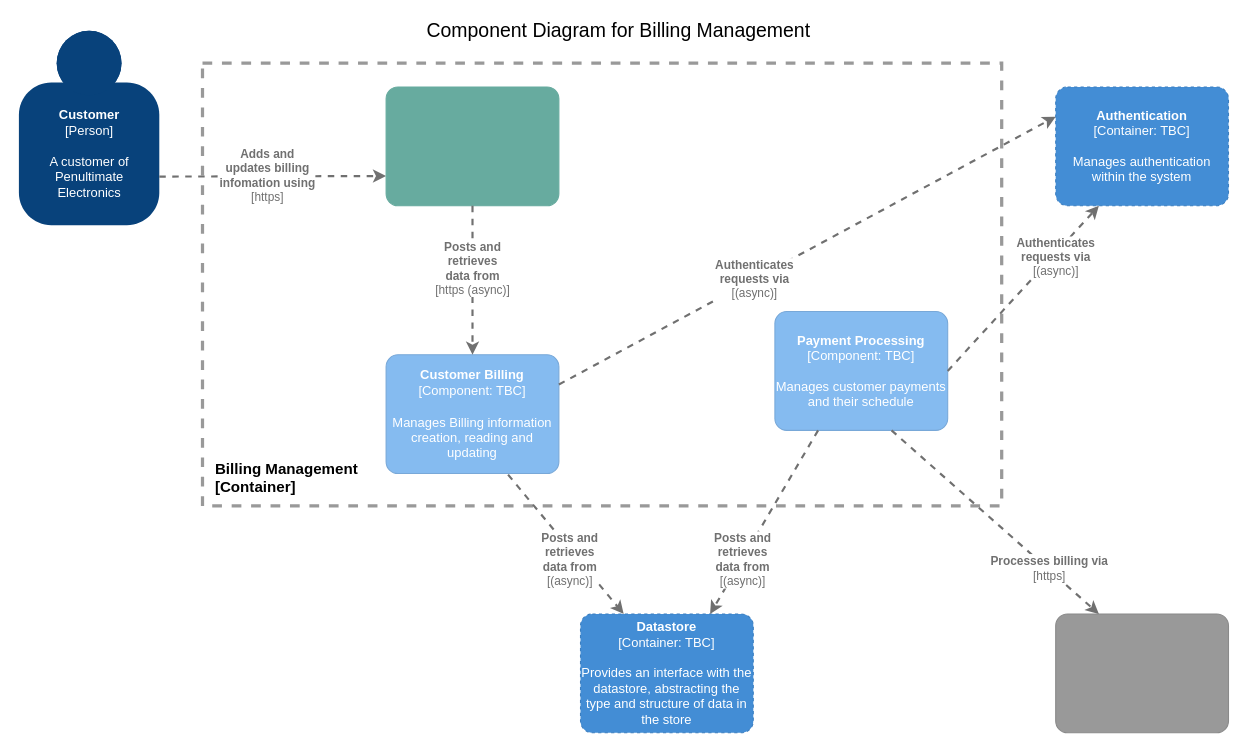
Image size: 1247x752. Some labels were removed from this diagram. The shapes that lost their labels are listed below. From the top down, each one's centre as x and y in pixels, then its label:
At (x=472, y=146): "Billing UI [Component: TBC] User interface for Billing Management".
At (x=1141, y=673): "Penultimate Electronics [Software System] PE system for selling goods".
